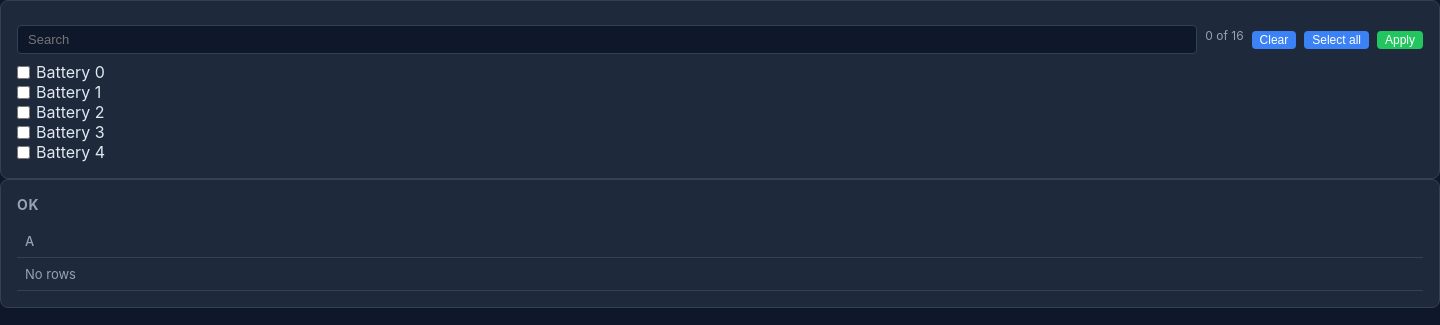
PanelView with a picker › shows the timeout message when the retry after Apply also gets a 504
Click the button "Apply" at (1400,40), box [1377, 30, 1423, 48]
Wait 1000 ms
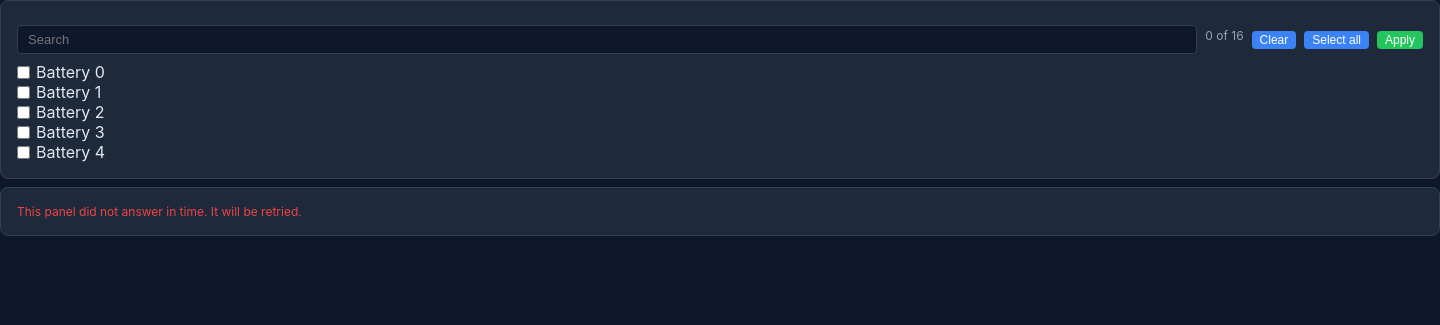
Result: the message "This panel did not answer in time. It will be retried." is shown at [0, 187, 1439, 236]
